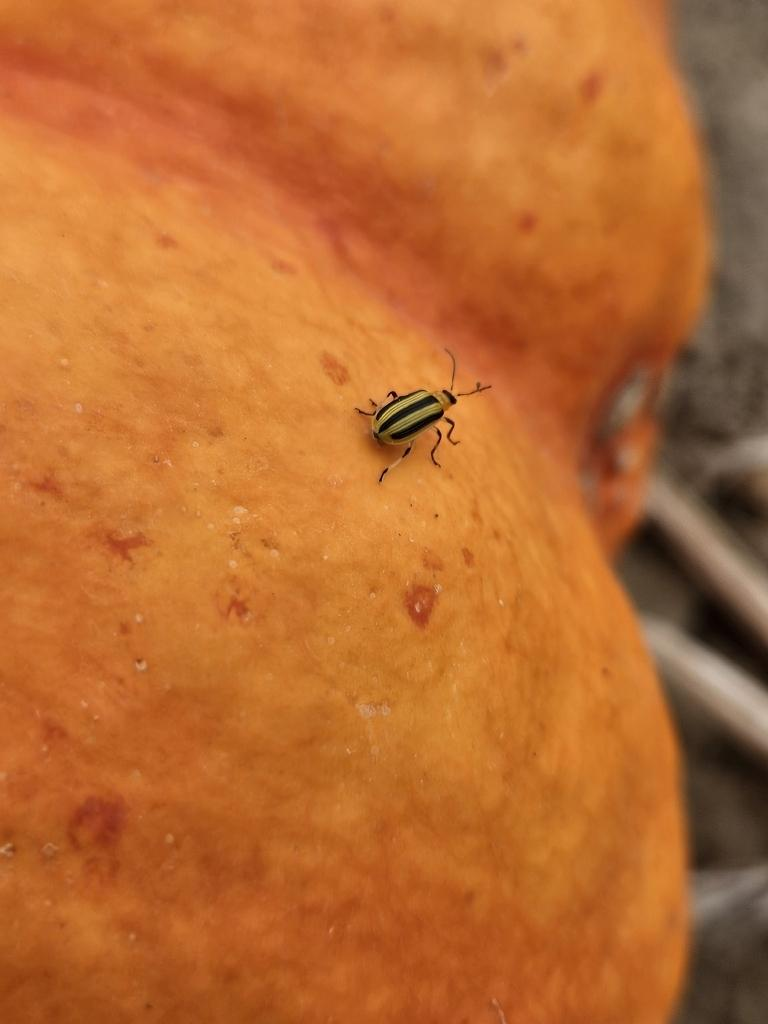potato_beetle: (320, 316, 516, 507)
